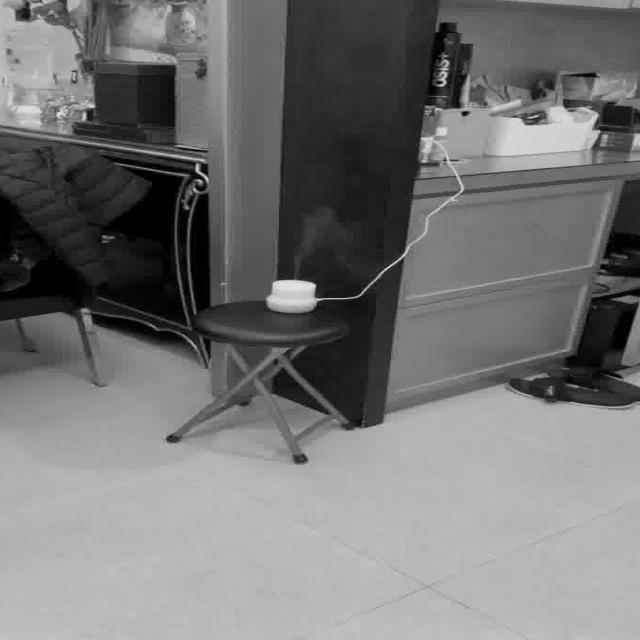fire: (282, 206, 354, 276)
